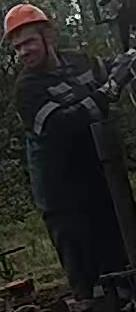gloves: (110, 49, 135, 89)
helmet: (2, 3, 50, 41)
vest: (15, 48, 111, 211)
